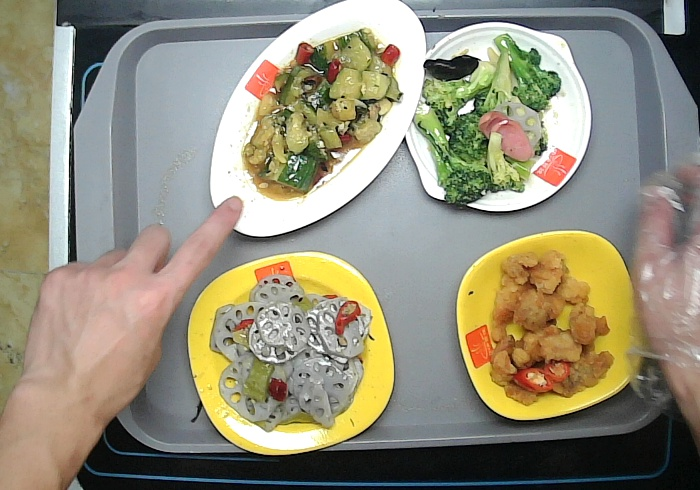SHKJ-Bao_Yu_Pan: (404, 22, 592, 212)
SHKJ-Huang_Se_Cai_Die: (455, 230, 646, 420)
SHKJ-Huang_Se_Si_Fang_Cai_Die: (188, 251, 394, 455)
SHKJ-Yu_Pan: (210, 1, 426, 237)
